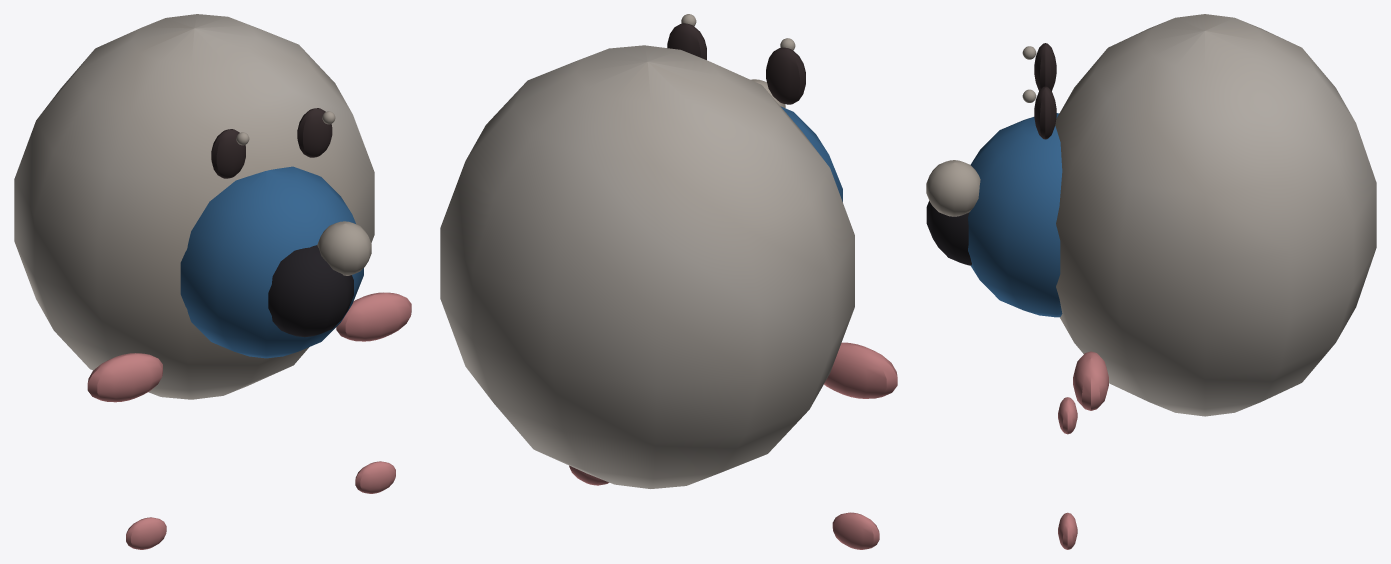
3 views of the same model, side by side, from view 1: azimuth 30°, elevation 25°; view 2: azimuth 150°, elevation 25°; view 3: azimuth 270°, elevation 25° (orthographic). The views are drawn at different scales.
Visible parts, largest first — view 1: pet_p91327f69; view 2: pet_p91327f69; view 3: pet_p91327f69.
Boxes of the visible parts, x1,y1,x2,y2 form: pet_p91327f69: (14,14,411,549); pet_p91327f69: (440,14,897,549); pet_p91327f69: (926,14,1376,549).
Size of the model in its own units: 0.3388 by 0.4436 by 0.3953.
